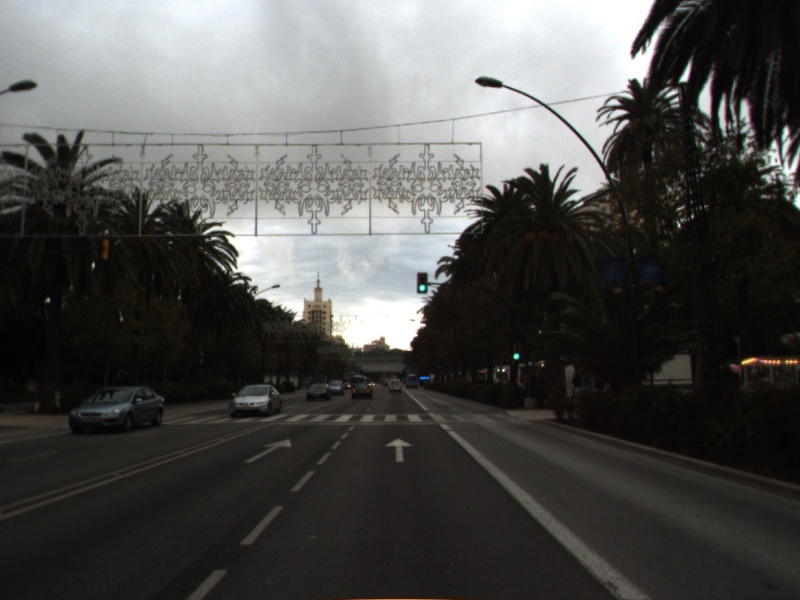STRAIGHT: (242, 436, 294, 465), (383, 436, 416, 464)
